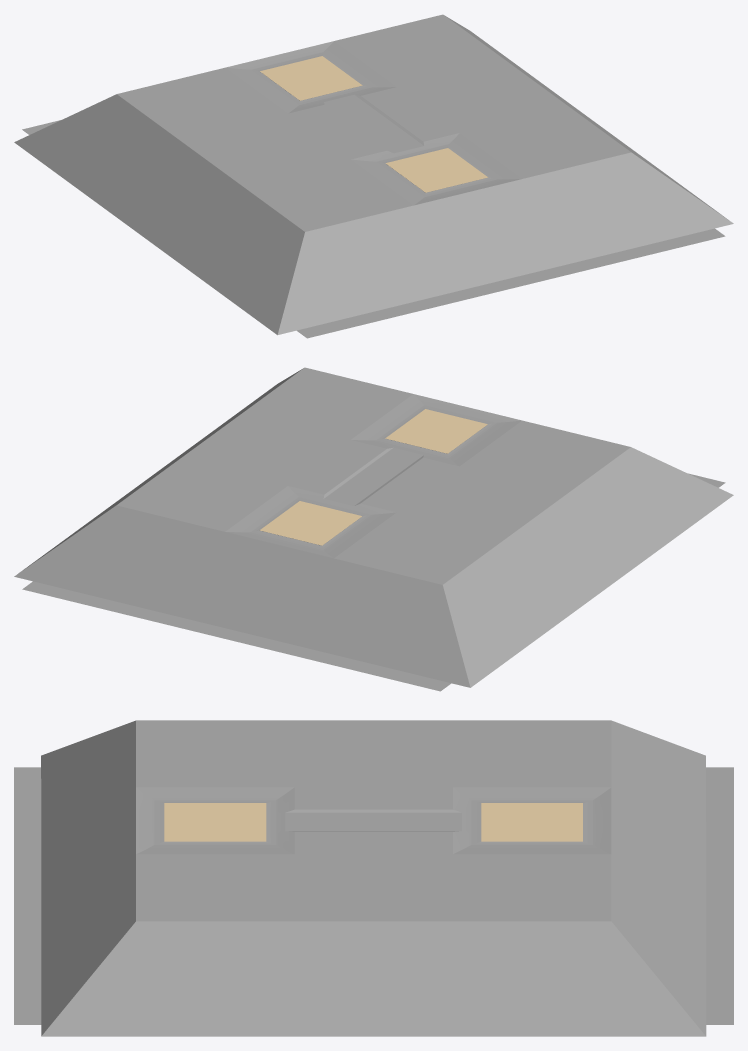
File: OutsideCorridorRoofNoPipes.fbx
The picture shows the model from 3 angles, top to bottom: view 1: azimuth 30°, elevation 25°; view 2: azimuth 150°, elevation 25°; view 3: azimuth 270°, elevation 25°; orthographic projection. The views are drawn at different scales.
Parts seen in each view (by area): view 1: polySurface426; view 2: polySurface426; view 3: polySurface426.
Boxes of the visible parts, box(x1,y1,x2,y2) form: polySurface426: box(14, 14, 733, 338); polySurface426: box(14, 367, 733, 691); polySurface426: box(14, 720, 733, 1036).
Bounding box in the file's own units: 23.99 × 3 × 25.98.
